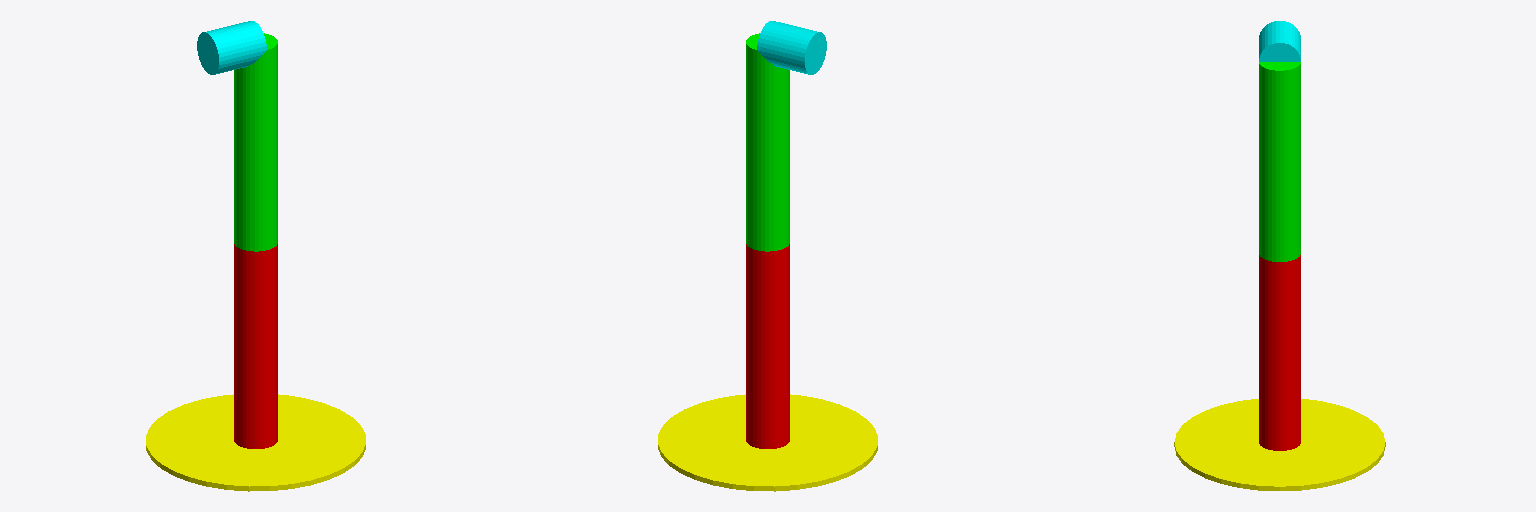
URDF robot description (simple_robot):
<robot name="simple_robot"> <!-- robot name- you decide -->
  <!-- sequence : link-joint-link-joint-...-link... -->
  <!-- units: meters for distance,rad in case of angles -->
  <!-- first link called base_link -->
  <link name= "base_link">
    <visual>
      <geometry>
        <cylinder length="0.01" radius="0.2"/>
      </geometry>
      <origin rpy="0 0 0" xyz="0 0 0"/> <!-- rpy: roll pitch yaw -> orientation xyz -> position --> 
      <material name= "base_color">
        <color rgba="1 1 0 1"/> 
      </material>
    </visual>
  
  </link>
  <!-- first joint-->
  <joint name="joint1" type= "revolute"> <!-- types: revolute and prismatic -->
    <parent link="base_link"/>
    <child link="link1"/>
    <origin xyz ="0 0 0"/>
    <axis xyz="0 0 1"/>
    <limit effort="300" velocity="0.1" lower="-3.14159" upper="3.14159"/>
    <dynamics damping="50" friction="1"/>
  
  </joint>
  <!-- link1-->
  <link name= "link1">
    <visual>
      <geometry>
        <cylinder length="0.4" radius="0.04"/>
      </geometry>
      <origin rpy="0 0 0" xyz="0 0 0.2"/> <!-- rpy: roll pitch yaw -> orientation xyz -> position --> 
      <material name= "link1_color">
        <color rgba="1 0 0 1"/> 
      </material>
    </visual>
  
  </link>
  
  
  <!-- second joint-->
  <joint name="joint2" type= "revolute"> <!-- types: revolute and prismatic -->
    <parent link="link1"/>
    <child link="link2"/>
    <origin xyz ="0 0 0.4"/> <!--changed-->
    <axis xyz="0 -1 0"/>
    <limit effort="300" velocity="0.1" lower="-3.14159" upper="3.14159"/>
    <dynamics damping="50" friction="1"/>
  
  </joint>
  <!-- link2-->
  <link name= "link2">
    <visual>
      <geometry>
        <cylinder length="0.4" radius="0.04"/>
      </geometry>
      <origin rpy="0 0 0" xyz="0 0 0.2"/> <!-- rpy: roll pitch yaw -> orientation xyz -> position --> 
      <material name= "link2_color">
        <color rgba="0 1 0 1"/> 
      </material>
    </visual>
  </link>
  
  <!-- third joint-->
  <joint name="joint3" type= "revolute"> <!-- types: revolute and prismatic -->
    <parent link="link2"/>
    <child link="link3"/>
    <origin xyz ="0 0 0.4"/> <!--respecto al anterior joint , changed-->
    <axis xyz="0 -1 0"/> <!---->
    <limit effort="300" velocity="0.1" lower="-3.14159" upper="3.14159"/>
    <dynamics damping="50" friction="1"/>
  
  </joint>
  <!-- link3-->
  <link name= "link3">
    <visual>
      <geometry>
        <cylinder length="0.1" radius="0.04"/>
      </geometry>
      <origin rpy="0 1.5707 0" xyz="-0.05 0 0"/> <!-- rpy: roll pitch yaw -> orientation xyz -> position --> 
      <material name= "link3_color">
        <color rgba="0 1 1 1"/> 
      </material>
    </visual>
  </link>
  
  <!-- fourth joint-->
  <joint name="joint4" type= "fixed"> <!-- types: revolute and prismatic -->
    <parent link="link3"/>
    <child link="link4"/>
    <origin xyz ="-0.1 0 0"/> <!--respecto al anterior joint , changed-->
    <axis xyz="0 -1 0"/> <!---->
    <limit effort="300" velocity="0.1" lower="-3.14159" upper="3.14159"/>
    <dynamics damping="50" friction="1"/>
  </joint>

  <!-- link4-->
  <link name= "link4">
    <visual>
      <geometry>
        <cylinder length="0.0" radius="0.0"/>
      </geometry>
      <origin rpy="0 1.5707 0" xyz="-0.05 0 0"/> <!-- rpy: roll pitch yaw -> orientation xyz -> position --> 
      <material name= "link3_color">
        <color rgba="0 1 1 1"/> 
      </material>
    </visual>
  </link>

</robot>
  
  

--- Render facts (derived) ---
The picture shows the robot from 3 angles, left to right: view 1: azimuth 30°, elevation 25°; view 2: azimuth 150°, elevation 25°; view 3: azimuth 270°, elevation 25°; orthographic projection.
Model simple_robot with 5 links and 4 joints (3 revolute, 1 fixed), rooted at base_link, posed every joint at zero.
Links seen in each view (by area): view 1: base_link, link1, link2, link3; view 2: base_link, link1, link2, link3; view 3: base_link, link2, link1, link3.
Boxes of the visible links, x1,y1,x2,y2 form: base_link: (146,394,365,491); link1: (234,244,277,448); link2: (234,33,277,251); link3: (197,21,266,74); base_link: (658,394,877,491); link1: (746,244,789,448); link2: (746,33,789,251); link3: (757,21,826,74); base_link: (1174,399,1385,490); link2: (1259,62,1300,261); link1: (1259,255,1300,450); link3: (1259,21,1300,61).
Bounding box of the posed robot: 0.4 × 0.4 × 0.845 m (x, y, z).
Geometry: primitives only (box / cylinder / sphere), no mesh files.